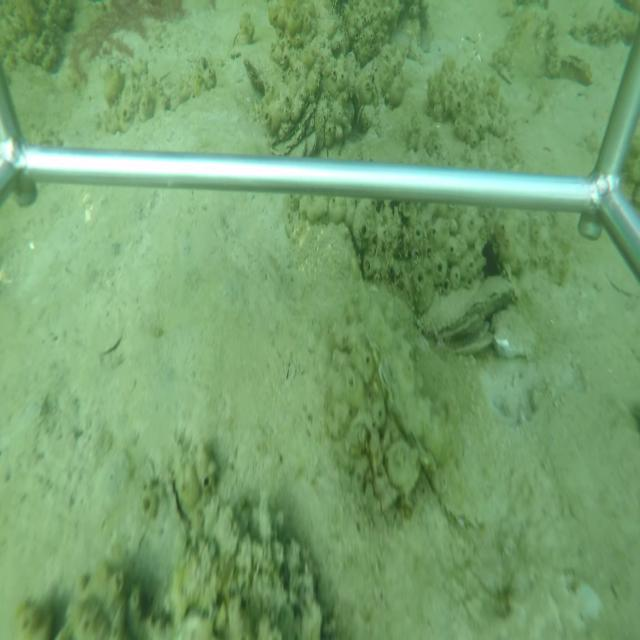Oyster-Closed: (358, 289, 484, 536), (416, 271, 518, 338), (268, 52, 324, 155), (242, 56, 267, 95), (368, 58, 382, 115)
Oyster-Open: (437, 318, 493, 354)
